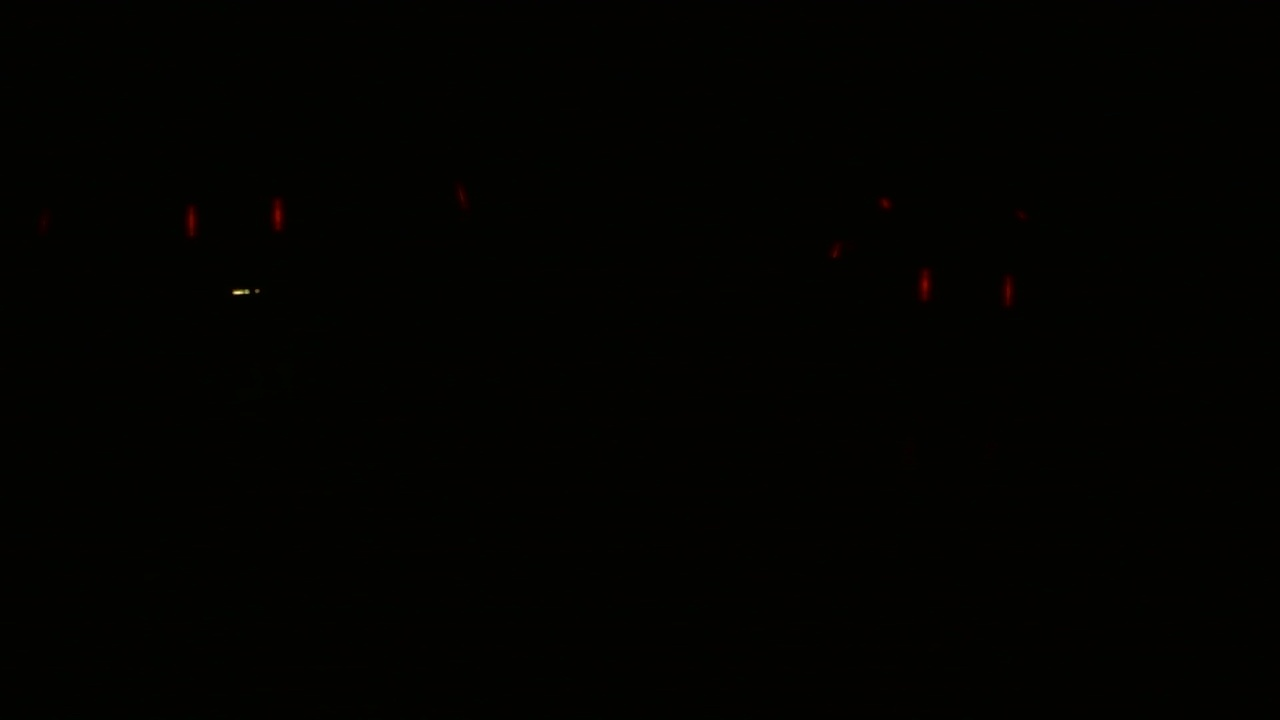pair1: (181, 193, 284, 244), (915, 262, 1015, 314)
